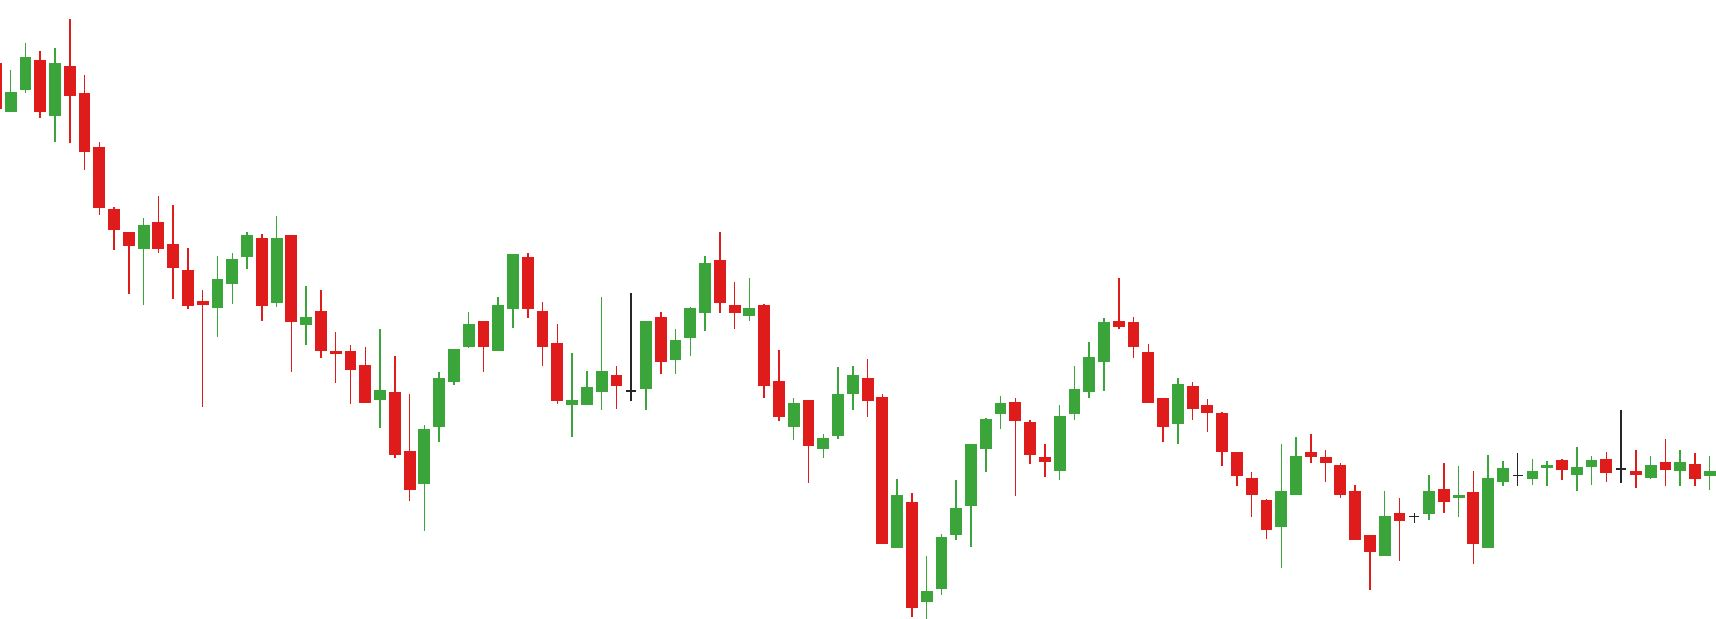buy: (1255, 483, 1393, 597)
sell: (505, 227, 729, 367)
